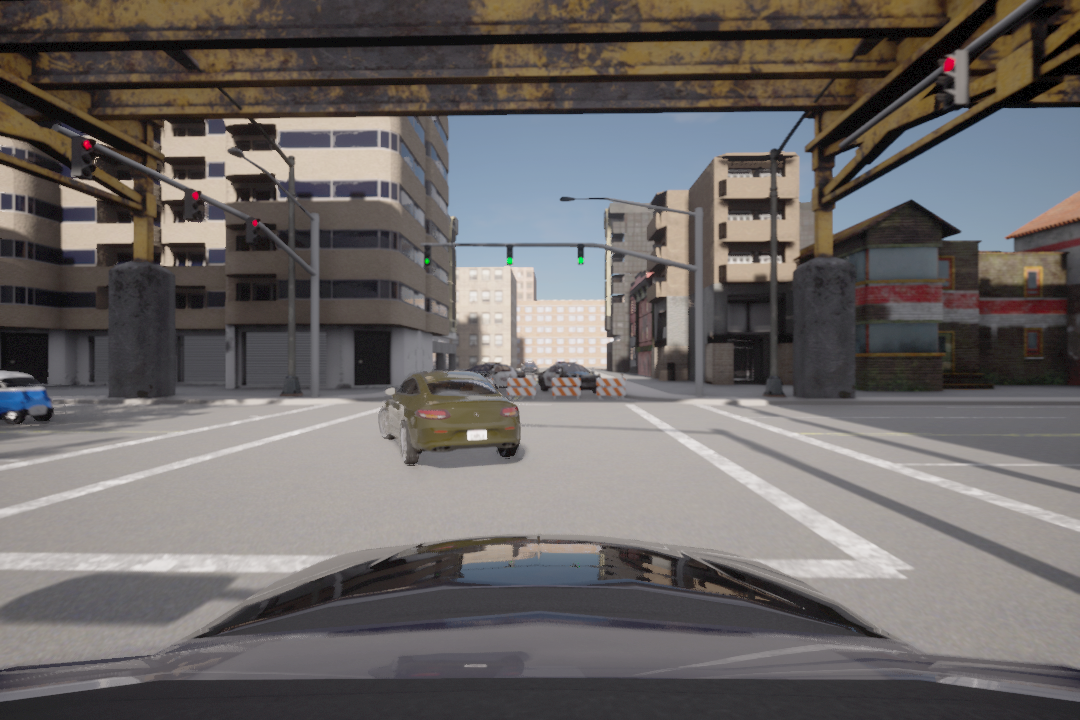TrafficLight: (940, 54, 967, 112), (67, 134, 98, 179), (242, 216, 261, 251), (186, 191, 206, 223), (501, 243, 514, 267), (576, 240, 587, 268), (424, 244, 431, 267)
